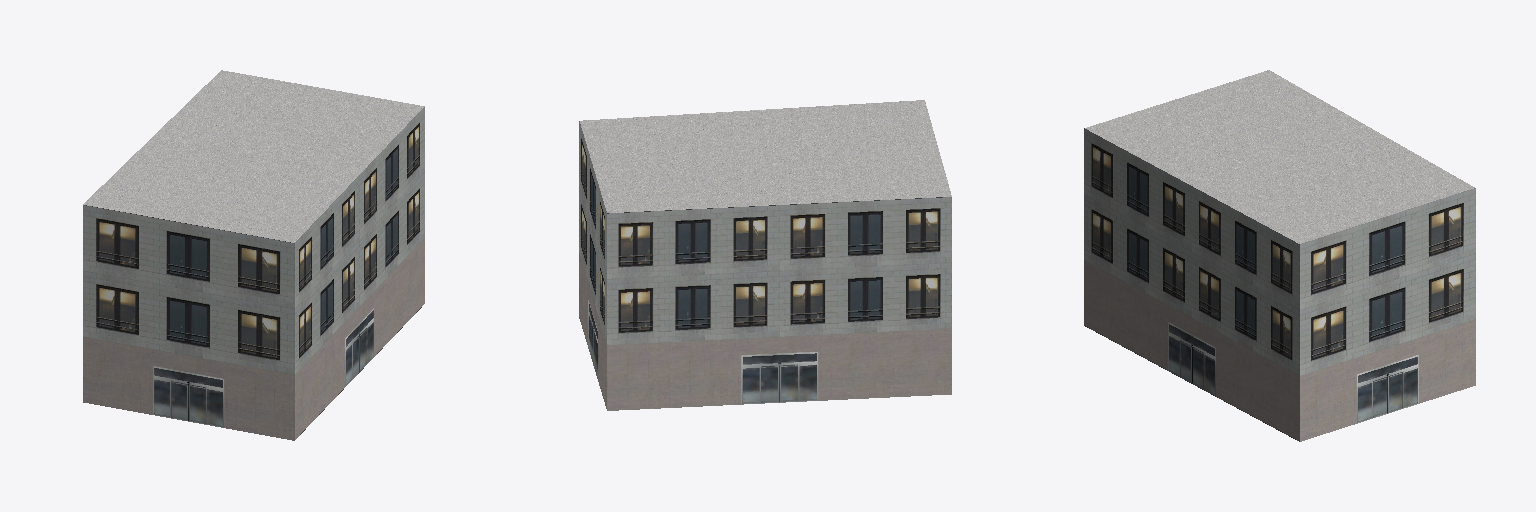
3 views of the same model, side by side, from view 1: azimuth 30°, elevation 25°; view 2: azimuth 150°, elevation 25°; view 3: azimuth 270°, elevation 25° (orthographic).
Visible parts, largest first — view 1: BuildingMaster_[number redacted]_0, BuildingMaster_[number redacted]_1; view 2: BuildingMaster_[number redacted]_0, BuildingMaster_[number redacted]_1; view 3: BuildingMaster_[number redacted]_0, BuildingMaster_[number redacted]_1.
Boxes of the visible parts, x1,y1,x2,y2 form: BuildingMaster_[number redacted]_0: [83, 107, 424, 440]; BuildingMaster_[number redacted]_1: [83, 70, 424, 242]; BuildingMaster_[number redacted]_0: [579, 121, 951, 410]; BuildingMaster_[number redacted]_1: [580, 100, 951, 212]; BuildingMaster_[number redacted]_0: [1084, 128, 1475, 441]; BuildingMaster_[number redacted]_1: [1085, 70, 1474, 243].
Bounding box in the file's own units: 19.85 × 10.5 × 18.82.
2 materials, 2 textured.